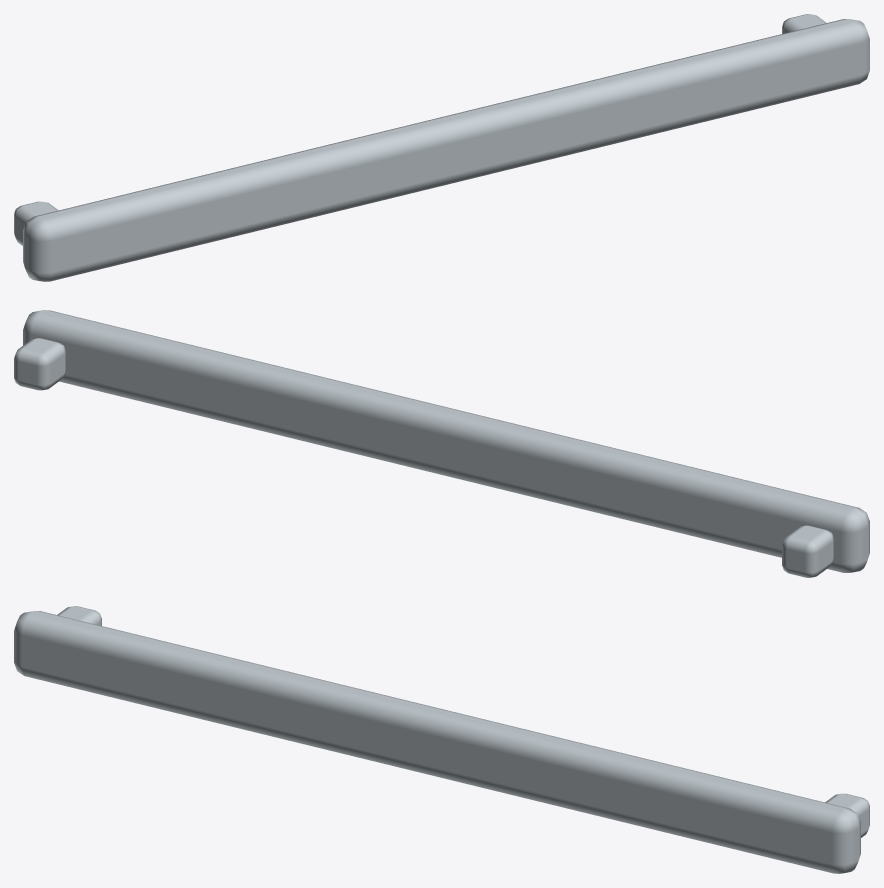
File: SM_BarHandle_28.glb
The picture shows the model from 3 angles, top to bottom: view 1: azimuth 30°, elevation 25°; view 2: azimuth 150°, elevation 25°; view 3: azimuth 330°, elevation 25°; orthographic projection.
Parts seen in each view (by area): view 1: SM_BarHandle_28; view 2: SM_BarHandle_28; view 3: SM_BarHandle_28.
Boxes of the visible parts, left/top/right/bottom form: SM_BarHandle_28: left=14, top=14, right=869, bottom=281; SM_BarHandle_28: left=14, top=310, right=869, bottom=577; SM_BarHandle_28: left=14, top=606, right=869, bottom=873.
Size of the model in its own units: 0.28 by 0.02 by 0.026.
Materials: 1 (1 with a texture image).
